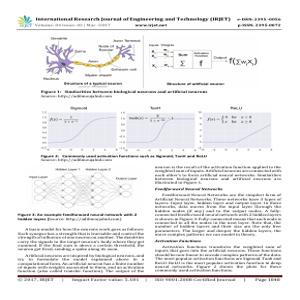diagram: (36, 32, 143, 89), (24, 165, 137, 210), (147, 39, 260, 83), (195, 111, 278, 157), (120, 111, 200, 152), (42, 110, 120, 152)
image: (14, 11, 36, 28)
text: (153, 162, 283, 274), (16, 212, 144, 278), (36, 10, 284, 29)
